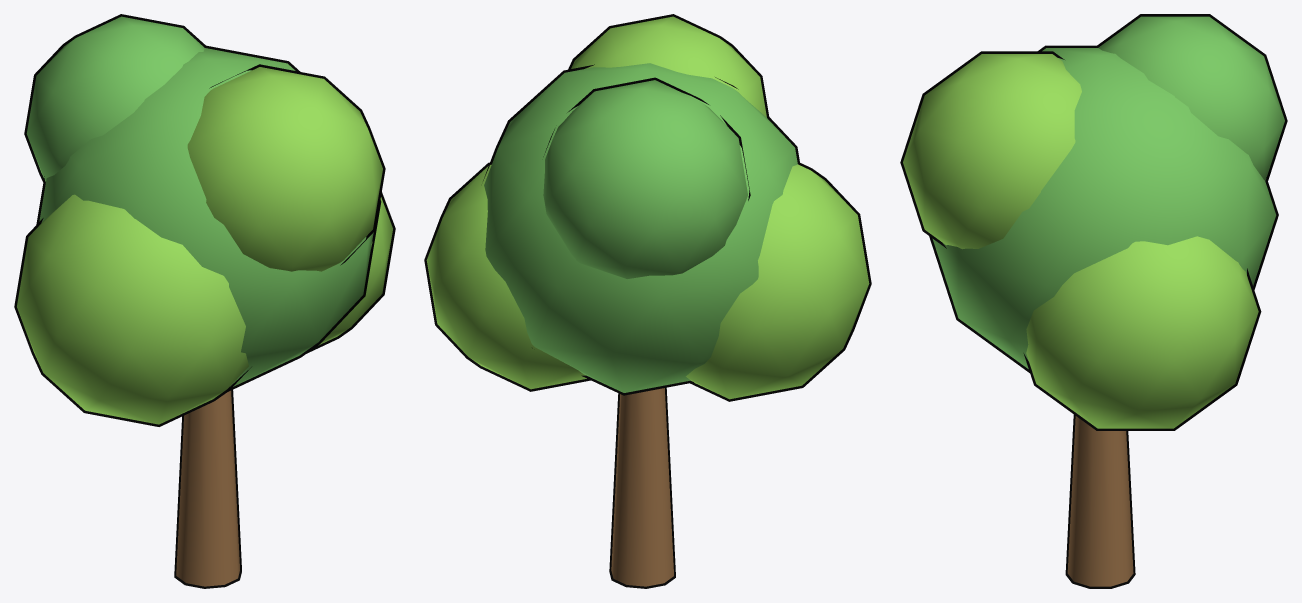
The model's file is Tree_Round.fbx.
3 views of the same model, side by side, from view 1: azimuth 30°, elevation 25°; view 2: azimuth 150°, elevation 25°; view 3: azimuth 270°, elevation 25° (orthographic). The views are drawn at different scales.
Visible parts, largest first — view 1: Tree_Round; view 2: Tree_Round; view 3: Tree_Round.
Part boxes in pixels (x1,y1,x2,y2): Tree_Round: [14, 14, 395, 588]; Tree_Round: [424, 14, 871, 588]; Tree_Round: [900, 14, 1287, 588].
Bounding box in the file's own units: 10.03 × 13.5 × 8.82.
